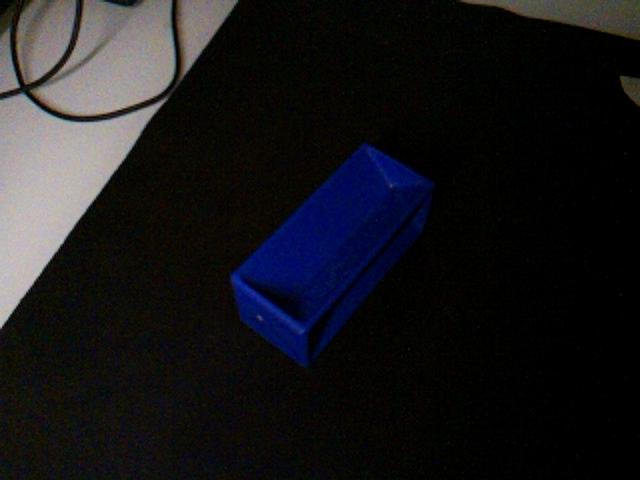blue: (228, 141, 436, 368)
